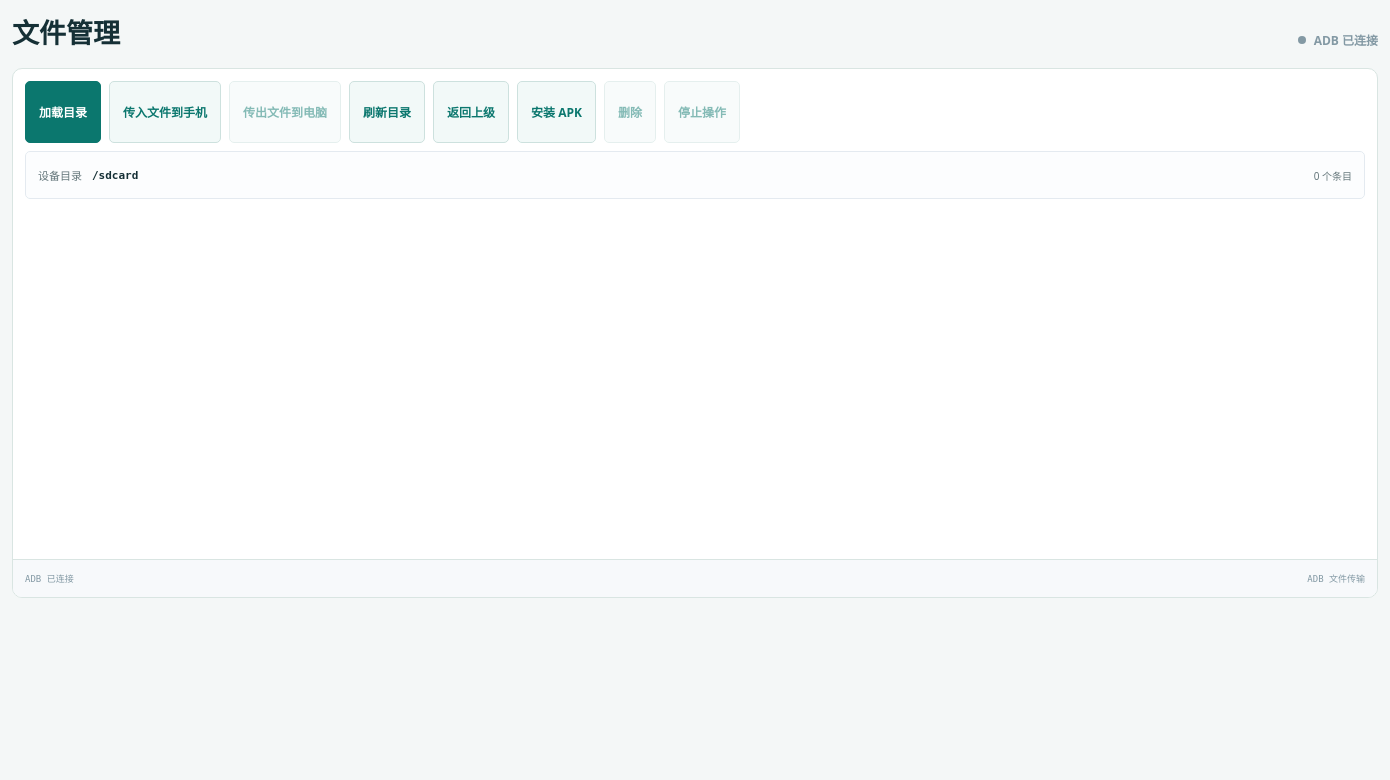
Test: FileManagerPage › 返回设备根目录后禁用上级按钮
Click the button with class "nw-test-file-remote-up". click: x=471, y=112
box: [433,81,509,143]
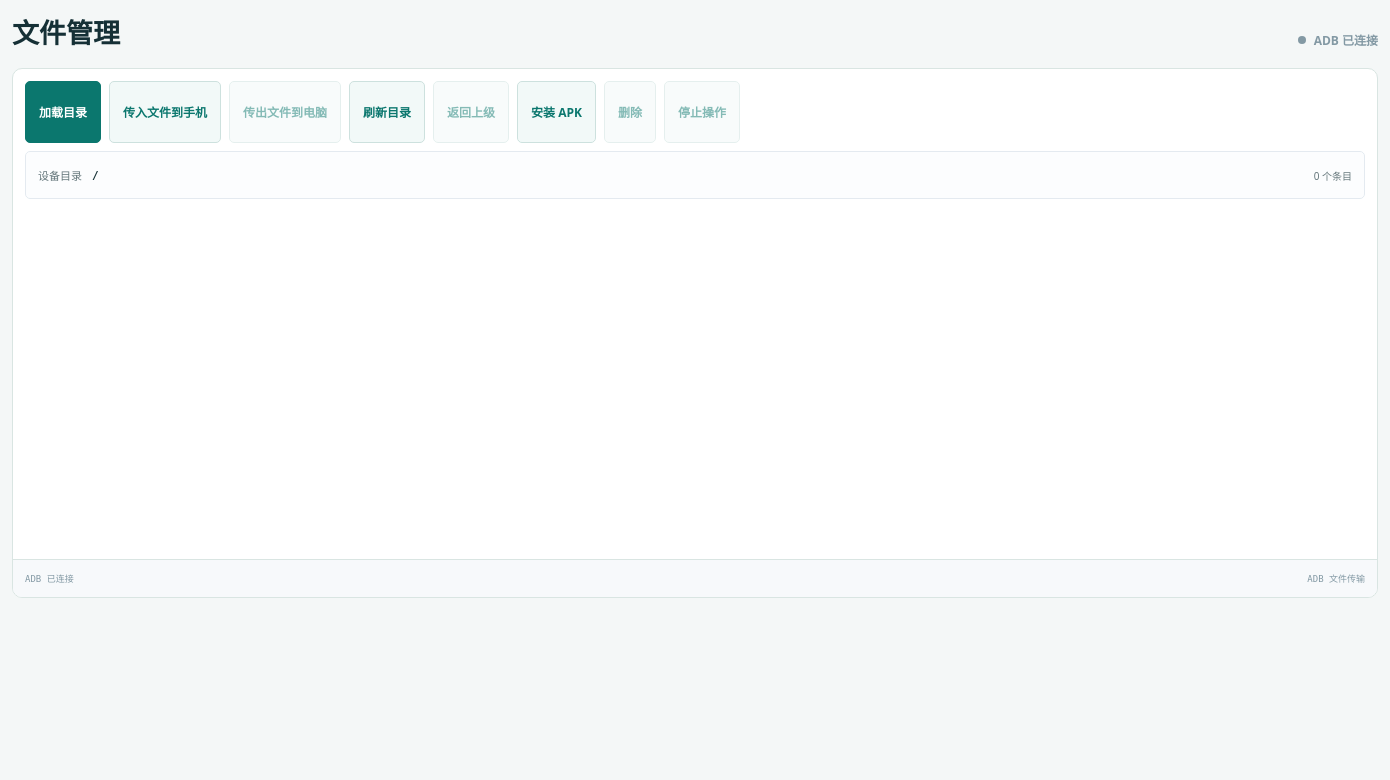
Expected: the button with class "nw-test-file-remote-up" is disabled, [433,81,509,143]
